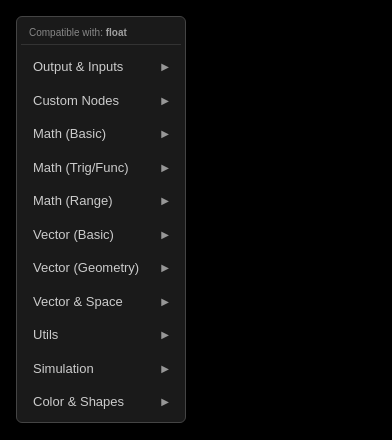
Test: ContextMenu - direction-aware filtering › dragging FROM an input (filterDirection="target", float) › shows Float Param (produces float)
Hover over the text "Output & Inputs": (78, 67) [33, 57, 123, 76]
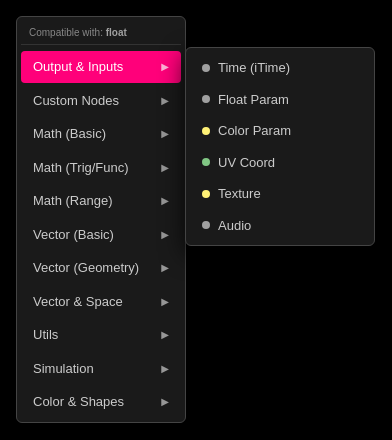
Expected: the text "Float Param" is shown, [202, 92, 289, 106]
